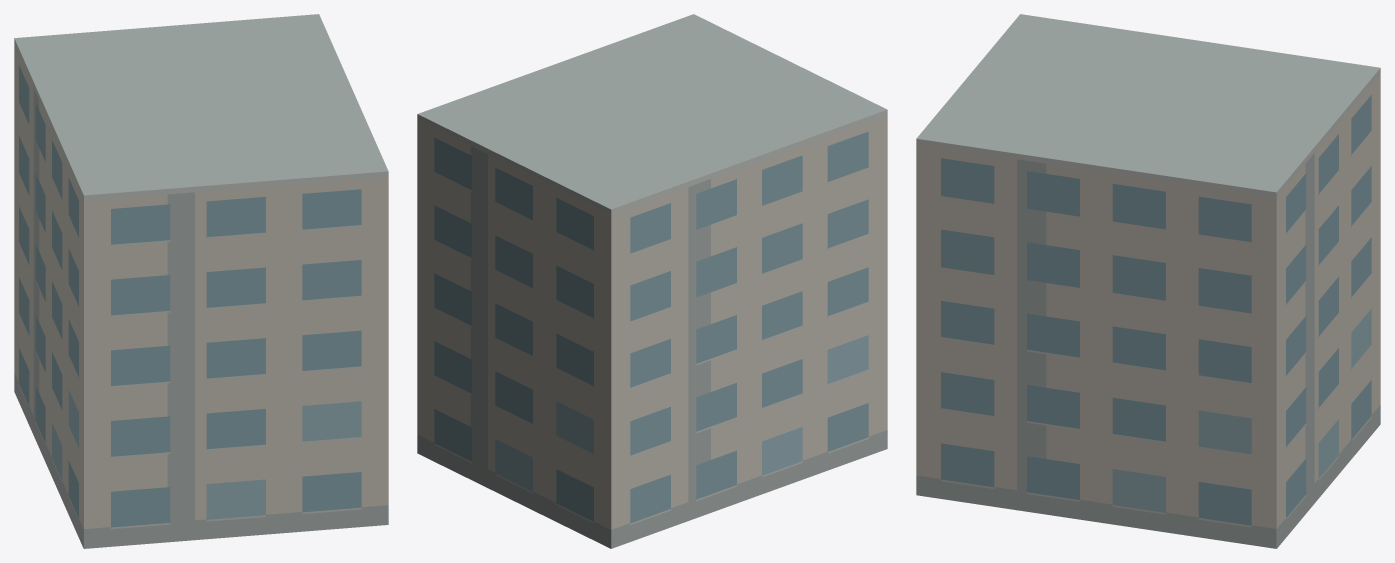
Rendered from residential-fb297a7a-b66e-4710-bf99-9dc1a06e95d1.glb.
The picture shows the model from 3 angles, left to right: view 1: azimuth 30°, elevation 25°; view 2: azimuth 150°, elevation 25°; view 3: azimuth 270°, elevation 25°; orthographic projection. The views are drawn at different scales.
Visible parts, largest first — view 1: residential-fb297a7a-b66e-4710-bf99-9dc1a06e95d1.tmp; view 2: residential-fb297a7a-b66e-4710-bf99-9dc1a06e95d1.tmp; view 3: residential-fb297a7a-b66e-4710-bf99-9dc1a06e95d1.tmp.
Part boxes in pixels (box(x1,y1,x2,y2)): residential-fb297a7a-b66e-4710-bf99-9dc1a06e95d1.tmp: box(14, 14, 388, 548); residential-fb297a7a-b66e-4710-bf99-9dc1a06e95d1.tmp: box(417, 14, 887, 548); residential-fb297a7a-b66e-4710-bf99-9dc1a06e95d1.tmp: box(916, 14, 1380, 548).
Size of the model in its own units: 16.37 by 15.25 by 18.01.
